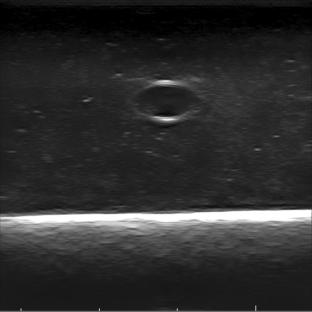vessel: (131, 78, 206, 122)
